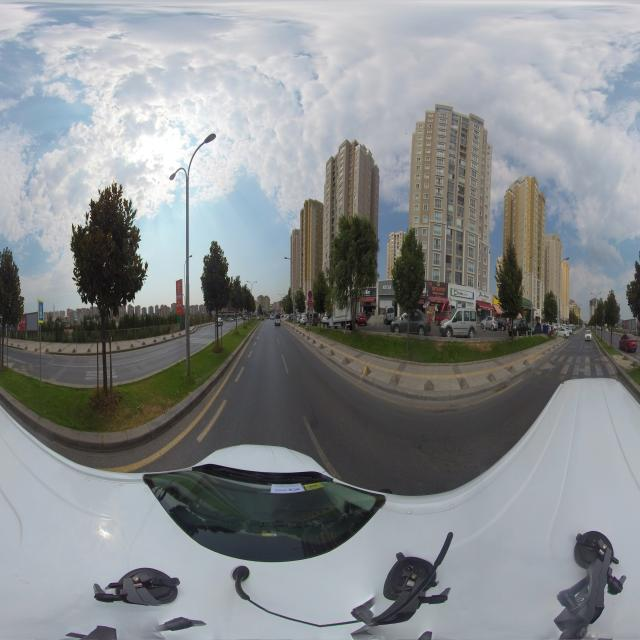SignStore: (451, 287, 475, 300), (429, 282, 448, 297), (380, 280, 393, 295), (477, 291, 491, 303), (364, 287, 377, 297), (536, 310, 539, 316)
